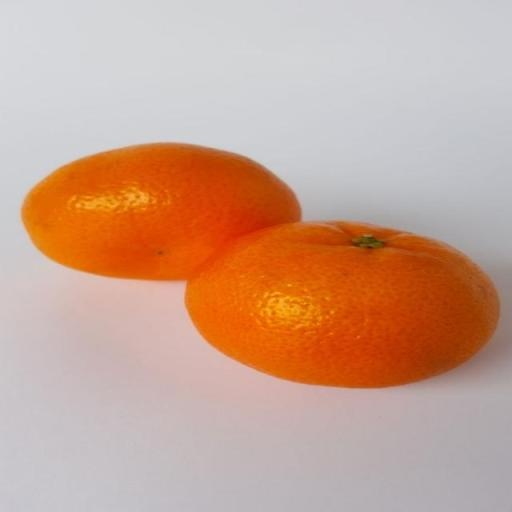fruit: (185, 222, 497, 387), (22, 144, 299, 279)
